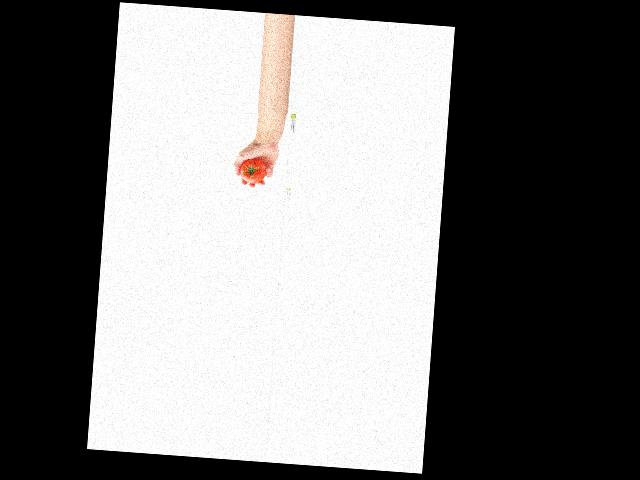tomato: (239, 157, 267, 184)
